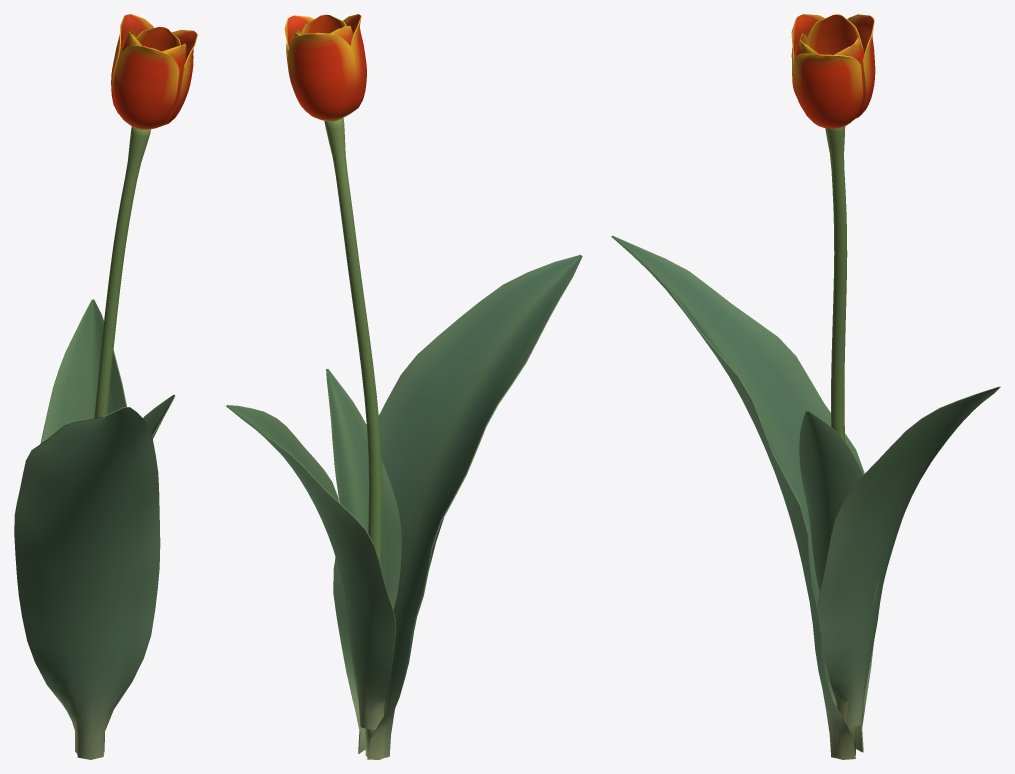
File: opening-flame.glb
3 renders of one model, left to right at view 1: azimuth 30°, elevation 25°; view 2: azimuth 150°, elevation 25°; view 3: azimuth 270°, elevation 25°, orthographic. The views are drawn at different scales.
Parts seen in each view (by area): view 1: tulip-opening-flame; view 2: tulip-opening-flame; view 3: tulip-opening-flame.
Boxes of the visible parts, x1,y1,x2,y2 form: tulip-opening-flame: [14, 14, 197, 759]; tulip-opening-flame: [226, 14, 582, 759]; tulip-opening-flame: [611, 14, 1000, 759].
Bounding box in the file's own units: 0.1198 × 0.4191 × 0.194.
